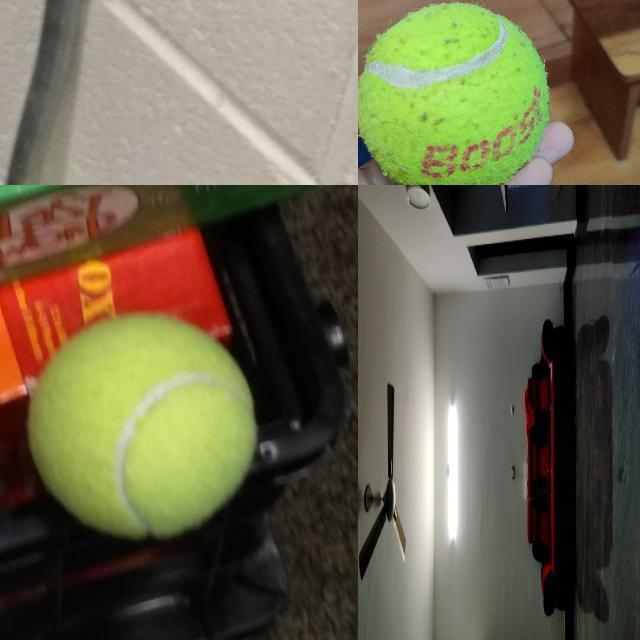tennis-ball: (27, 312, 259, 540), (358, 1, 549, 184), (511, 405, 514, 415)
